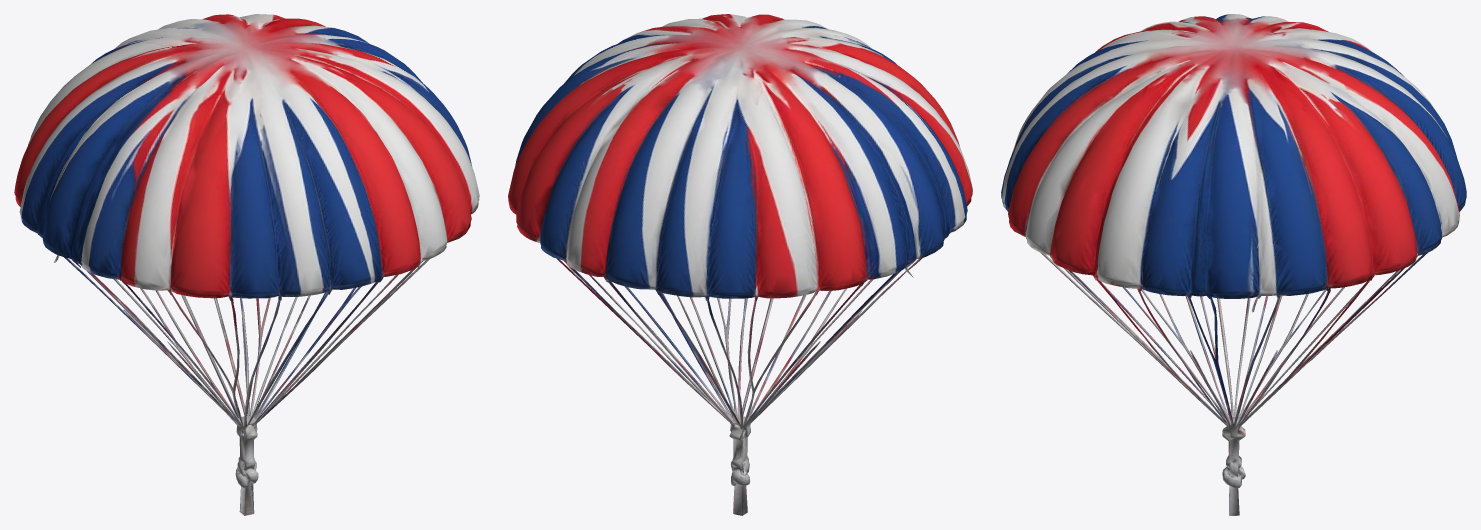
File: parachute_uj.glb
The picture shows the model from 3 angles, left to right: view 1: azimuth 30°, elevation 25°; view 2: azimuth 150°, elevation 25°; view 3: azimuth 270°, elevation 25°; orthographic projection.
Visible parts, largest first — view 1: node_0; view 2: node_0; view 3: node_0.
Boxes of the visible parts, x1,y1,x2,y2 form: node_0: (14,14,479,515); node_0: (508,14,972,515); node_0: (1001,14,1466,515).
Bounding box in the file's own units: 1.03 × 1.15 × 1.04.
Materials: 1 (1 with a texture image).
